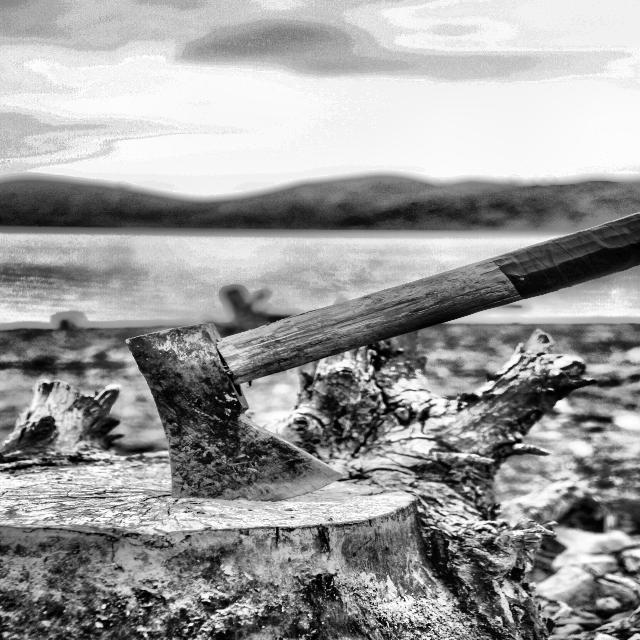kapak: (117, 203, 639, 510)
